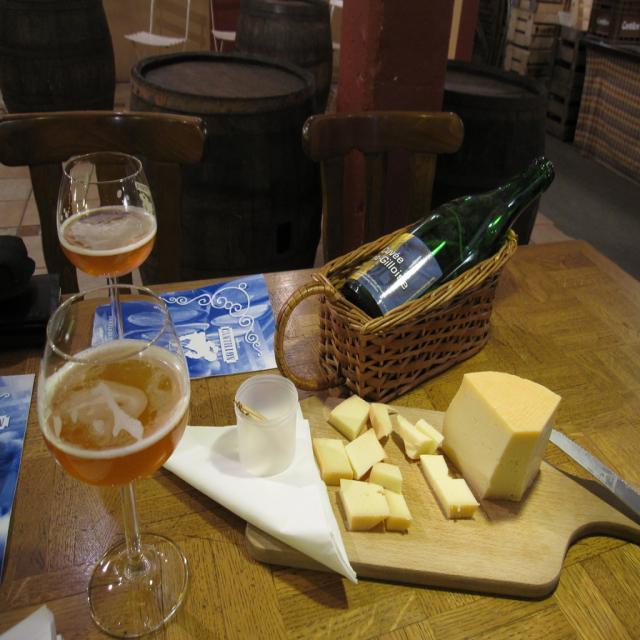Cheese: (312, 389, 480, 531), (440, 373, 563, 504)
